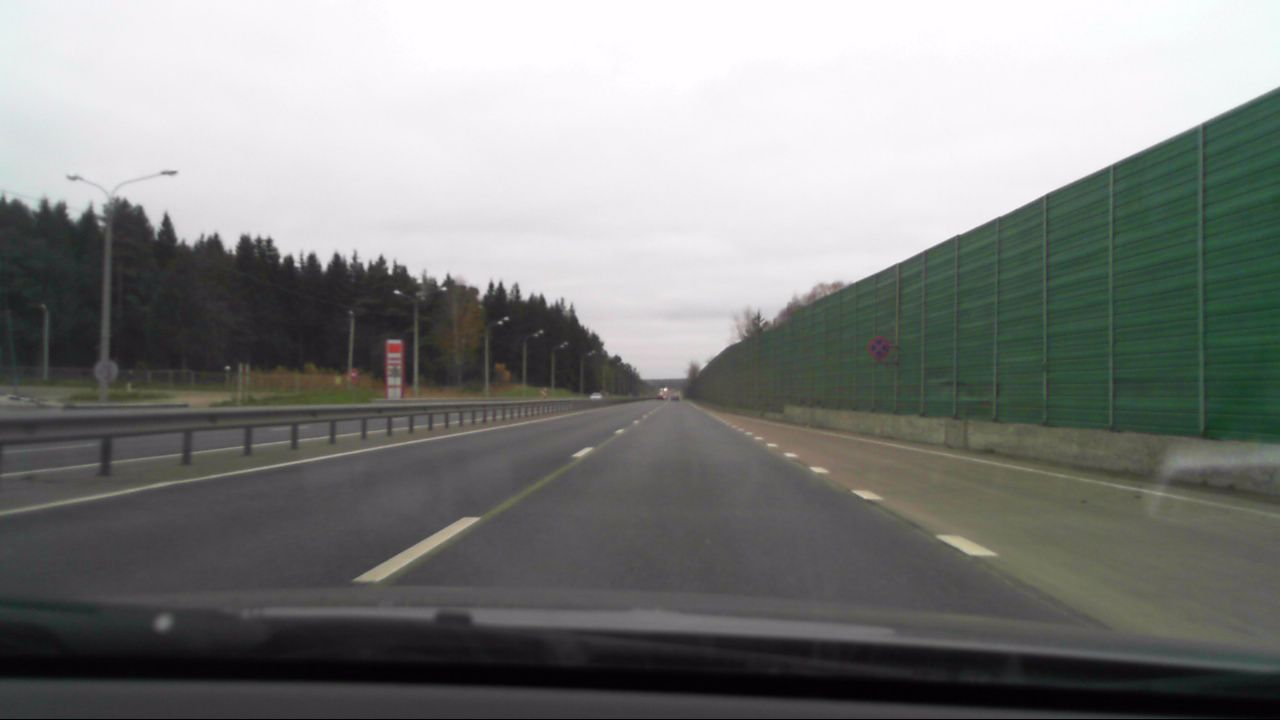No Parking: (869, 336, 890, 358)
